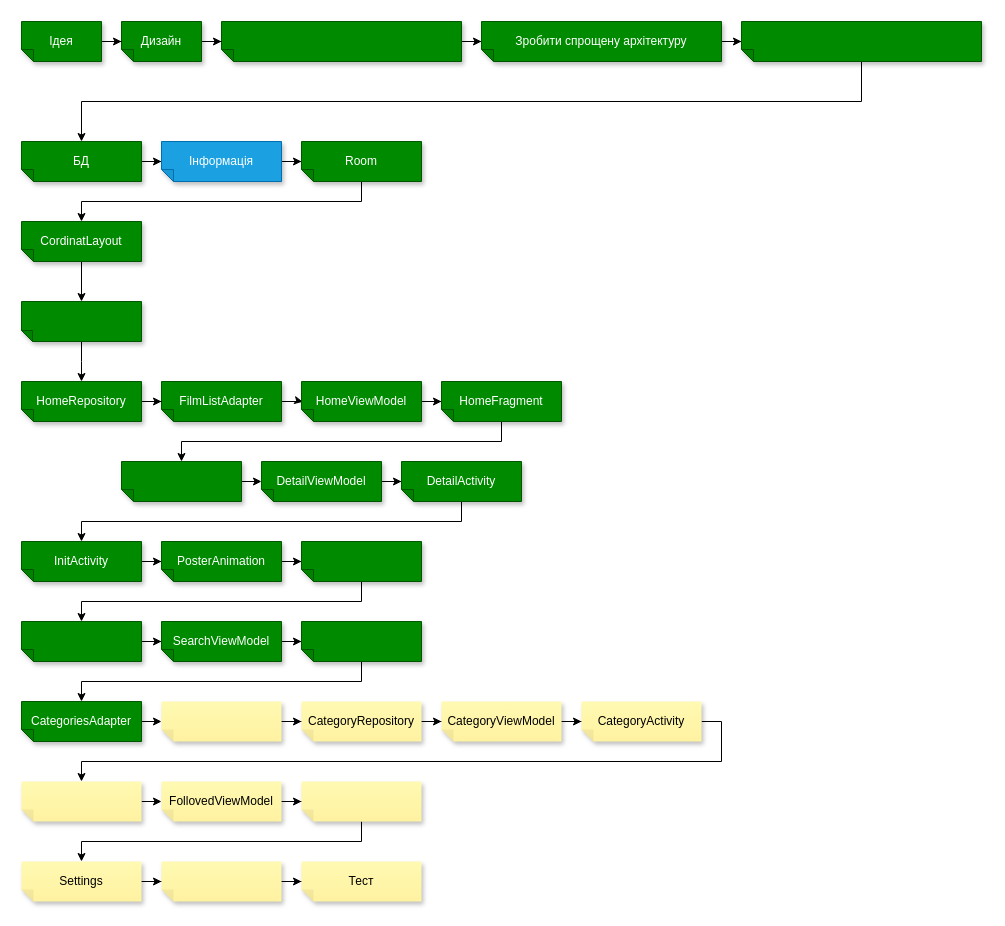
This 1005x926 diagram has some shape labels left out. The centre of each missing label's shape, as x and y in pixels:
"CategoriesFragment" goes at pixel 222 722.
"DetailRepository" goes at pixel 182 482.
"FollovedFragment" goes at pixel 362 802.
"FollovedRepository" goes at pixel 82 802.
"MainActivity" goes at pixel 82 322.
"SearchActivity" goes at pixel 362 642.
"SearchRepository" goes at pixel 82 642.
"Зробити детальну архітектуру" goes at pixel 342 42.
"Оптимізація" goes at pixel 362 562.
"Розпланувати роботу, завдання" goes at pixel 862 42.
"Чистка" goes at pixel 222 882.
